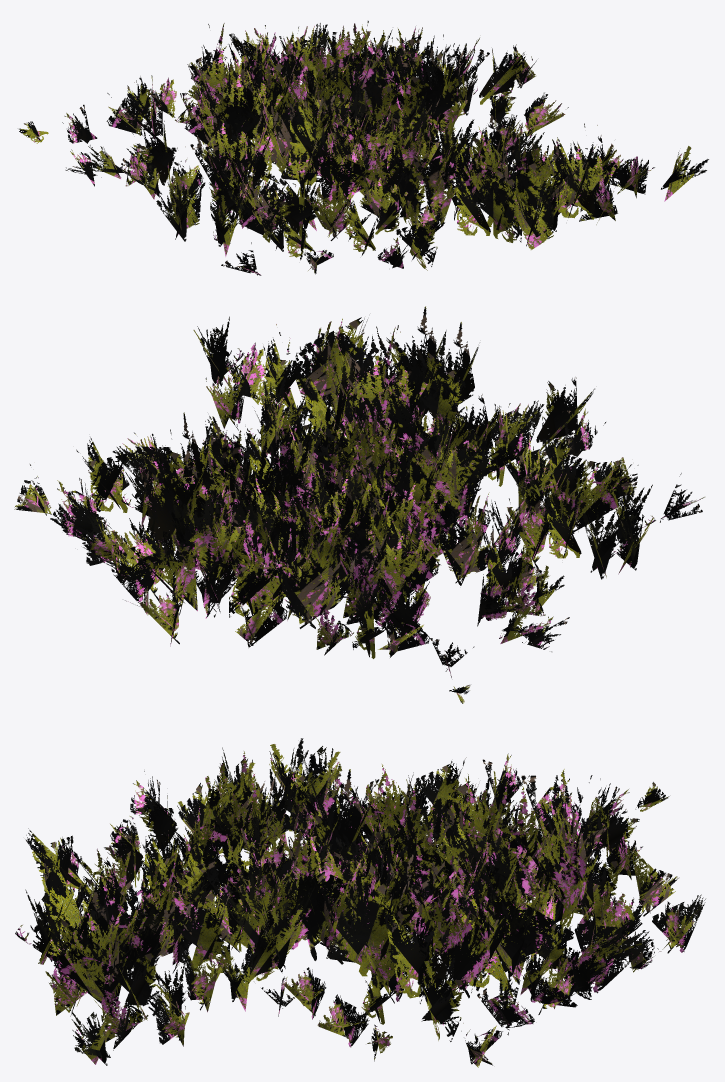
Rendered from heather_clump_03_LOD2.fbx.
3 renders of one model, top to bottom at view 1: azimuth 30°, elevation 25°; view 2: azimuth 150°, elevation 25°; view 3: azimuth 270°, elevation 25°, orthographic. The views are drawn at different scales.
Visible parts, largest first — view 1: heather_clump_03_LOD2; view 2: heather_clump_03_LOD2; view 3: heather_clump_03_LOD2.
Boxes of the visible parts, box(x1,y1,x2,y2) form: heather_clump_03_LOD2: box(19, 21, 708, 275); heather_clump_03_LOD2: box(14, 306, 704, 703); heather_clump_03_LOD2: box(15, 738, 705, 1067).
Bounding box in the file's own units: 972 × 219 × 974.
